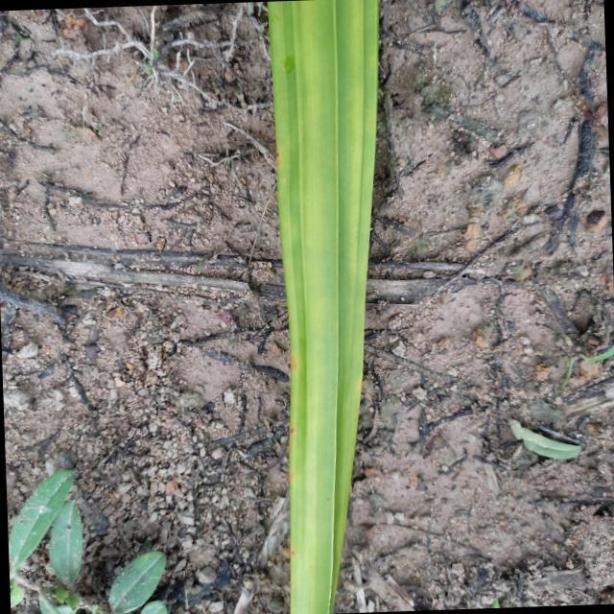nitrogen: (272, 0, 380, 614)
